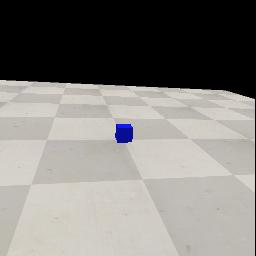box: (115, 124, 133, 143)
